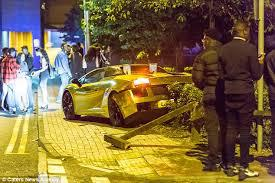quaterpanel-dent: (108, 80, 134, 107)
